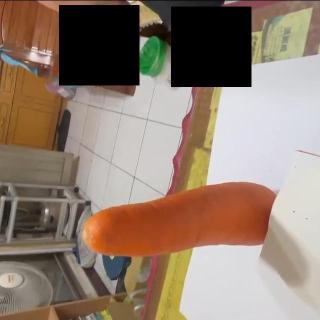carrot: (82, 181, 276, 257)
